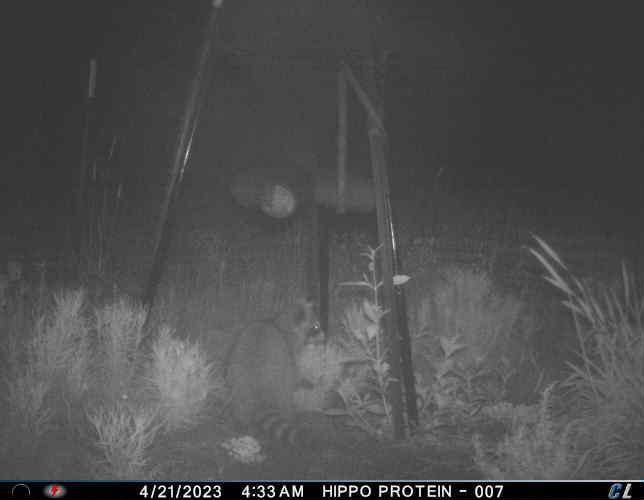Raccoon: (230, 295, 335, 451)
